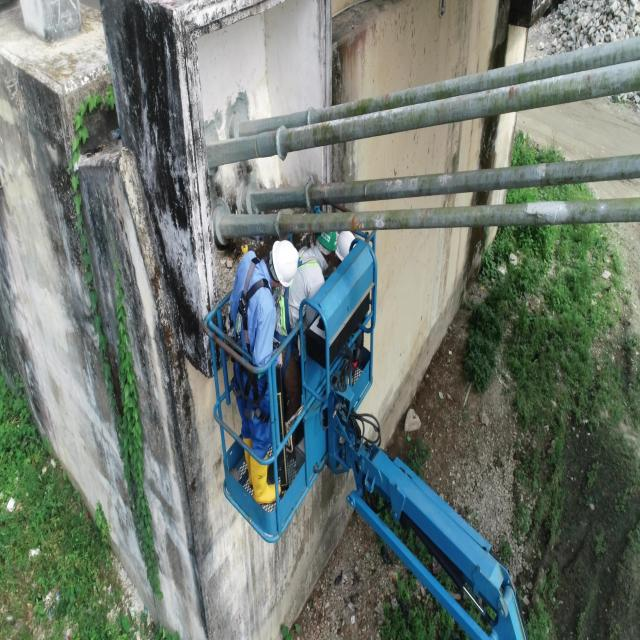corrosion: (508, 85, 514, 100), (350, 215, 355, 232), (357, 219, 362, 230), (385, 93, 389, 103), (309, 224, 312, 233), (322, 122, 326, 128), (486, 90, 490, 94)
crack: (422, 208, 428, 224)
